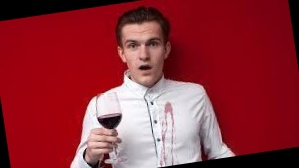wine: (158, 125, 171, 167), (162, 100, 177, 131), (167, 127, 178, 166), (152, 144, 169, 167)
